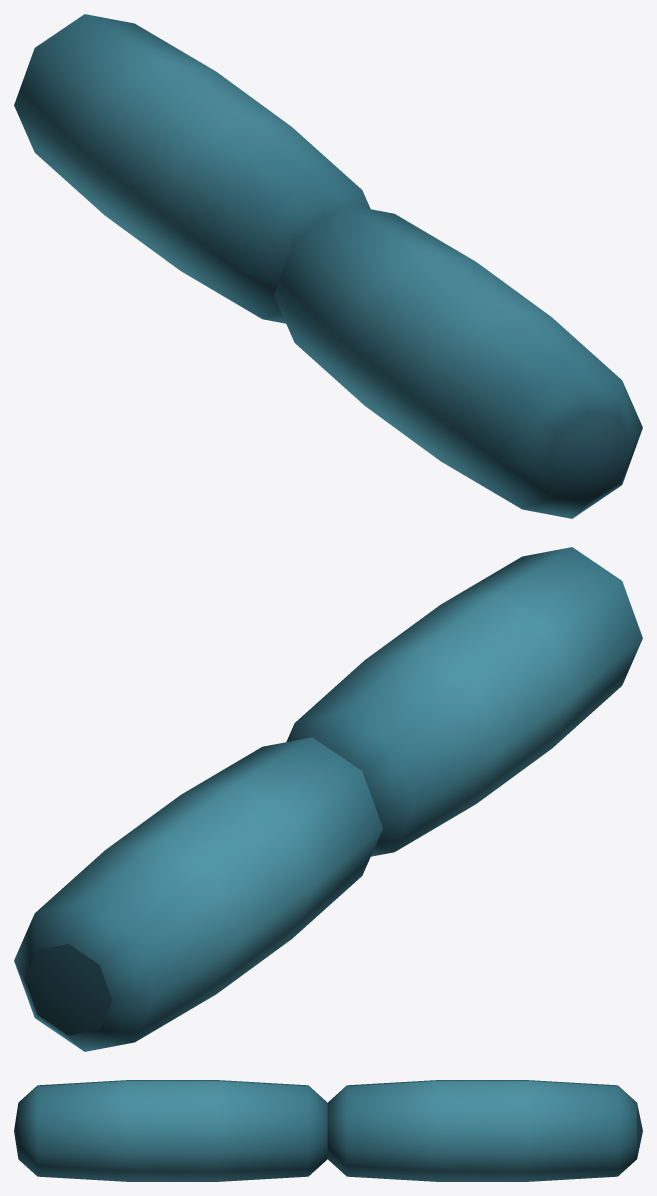
File: microscopic-bacteria-segmented-bacterium_v2.glb
3 renders of one model, top to bottom at view 1: azimuth 30°, elevation 25°; view 2: azimuth 150°, elevation 25°; view 3: azimuth 270°, elevation 25°, orthographic. The views are drawn at different scales.
Parts seen in each view (by area): view 1: Segmented Bacterium_v2; view 2: Segmented Bacterium_v2; view 3: Segmented Bacterium_v2.
Part boxes in pixels (left/top/right/bottom): Segmented Bacterium_v2: left=14, top=14, right=642, bottom=518; Segmented Bacterium_v2: left=14, top=547, right=642, bottom=1051; Segmented Bacterium_v2: left=14, top=1080, right=642, bottom=1181.
Bounding box in the file's own units: 0.1378 × 0.1379 × 0.8.
